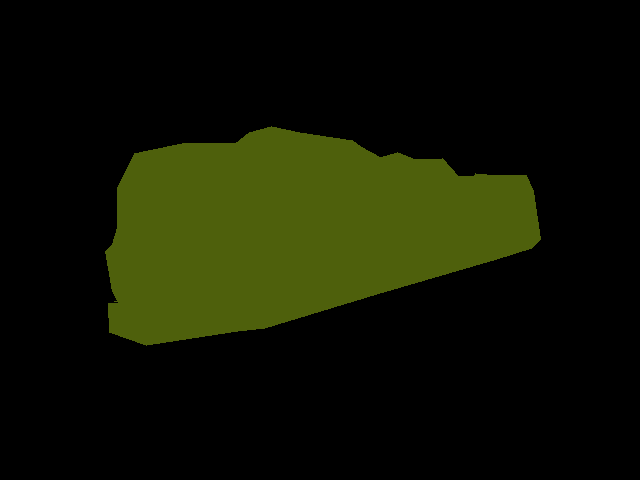Train: (105, 126, 540, 345)
